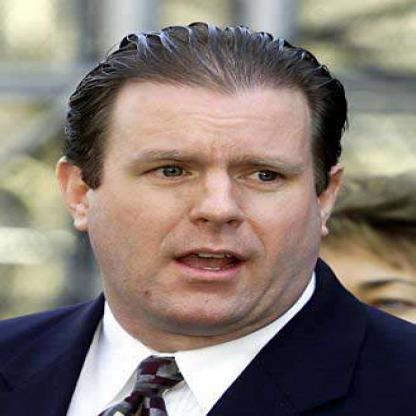face: (88, 30, 330, 327)
